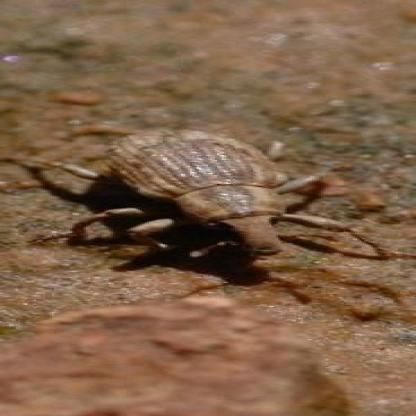rice-bug: (70, 131, 344, 267)
